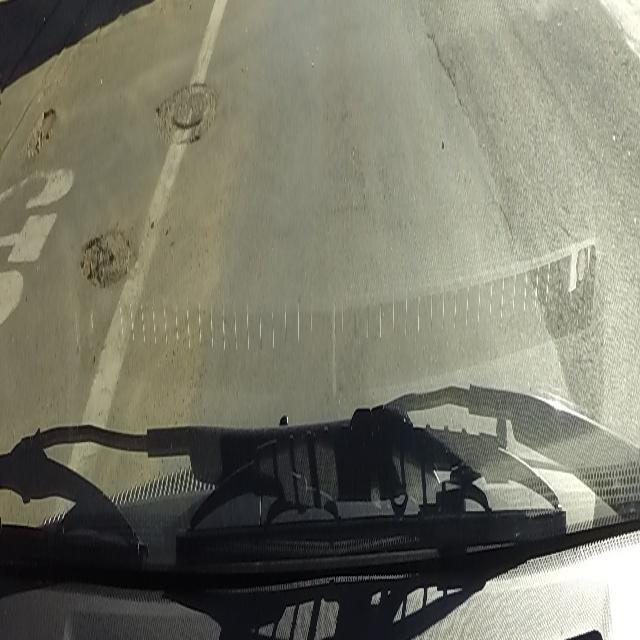pothole: (148, 78, 217, 149), (79, 223, 139, 290), (25, 105, 61, 166)
